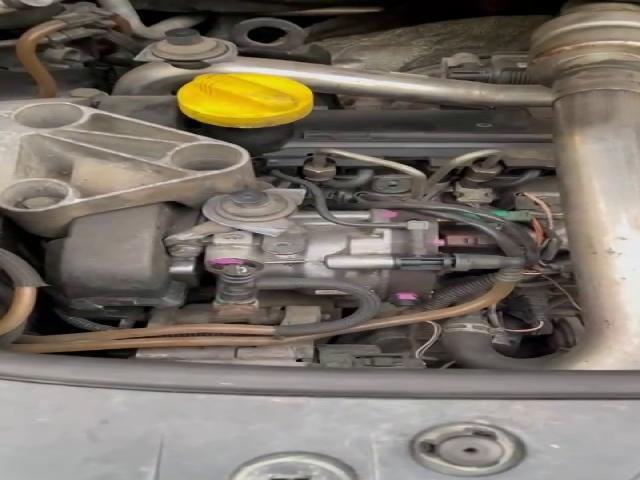high_pressure_pump: (203, 208, 463, 308)
